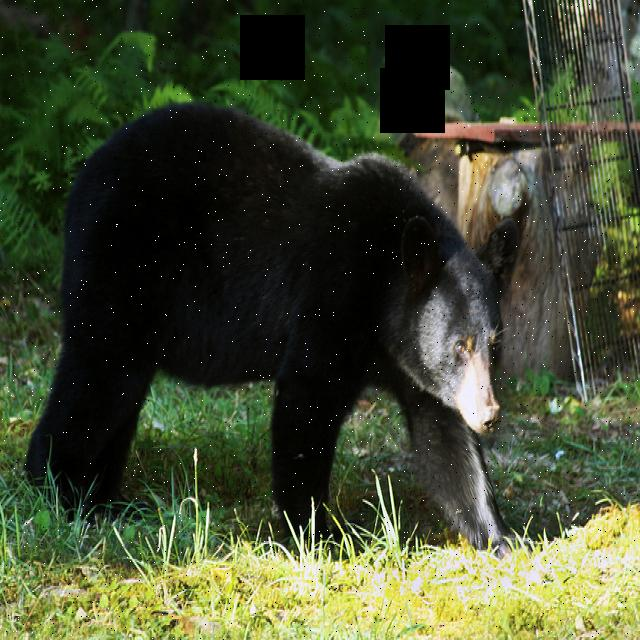Bear: (46, 103, 519, 567)
